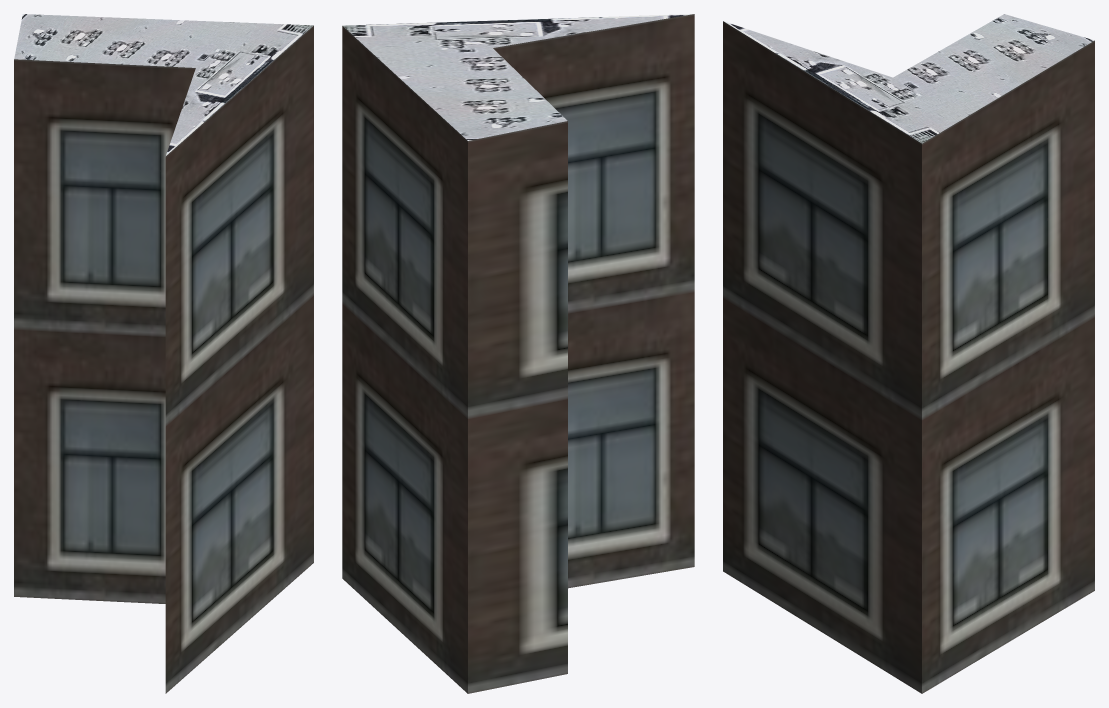
The model's file is ResTex__3813.fbx.
3 views of the same model, side by side, from view 1: azimuth 30°, elevation 25°; view 2: azimuth 150°, elevation 25°; view 3: azimuth 270°, elevation 25° (orthographic). The views are drawn at different scales.
Visible parts, largest first — view 1: CityEngineMaterial_16_m, CityEngineMaterial_15_m; view 2: CityEngineMaterial_16_m, CityEngineMaterial_15_m; view 3: CityEngineMaterial_16_m, CityEngineMaterial_15_m.
Boxes of the visible parts, x1,y1,x2,y2 form: CityEngineMaterial_16_m: [14, 25, 313, 693]; CityEngineMaterial_15_m: [14, 14, 313, 155]; CityEngineMaterial_16_m: [342, 14, 694, 693]; CityEngineMaterial_15_m: [343, 14, 693, 140]; CityEngineMaterial_16_m: [723, 21, 1094, 693]; CityEngineMaterial_15_m: [724, 14, 1094, 143].
Size of the model in its own units: 3.03 by 6 by 3.67.
2 materials, 2 textured.
